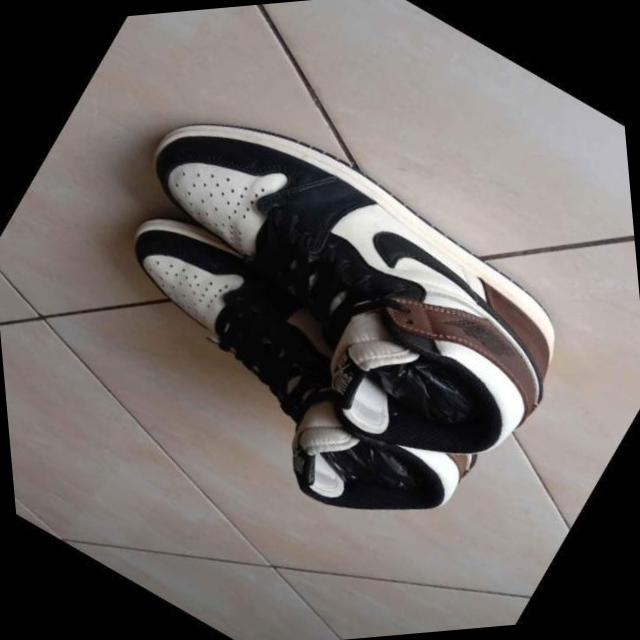nike_fake_jordan: (63, 42, 612, 540), (45, 165, 523, 592)
